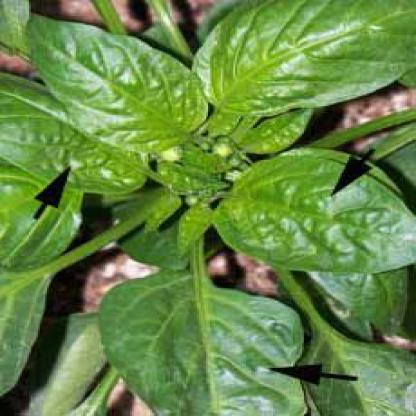Bell_pepper leaf: (98, 271, 317, 415), (27, 15, 212, 143), (221, 157, 414, 271), (2, 70, 139, 195)
